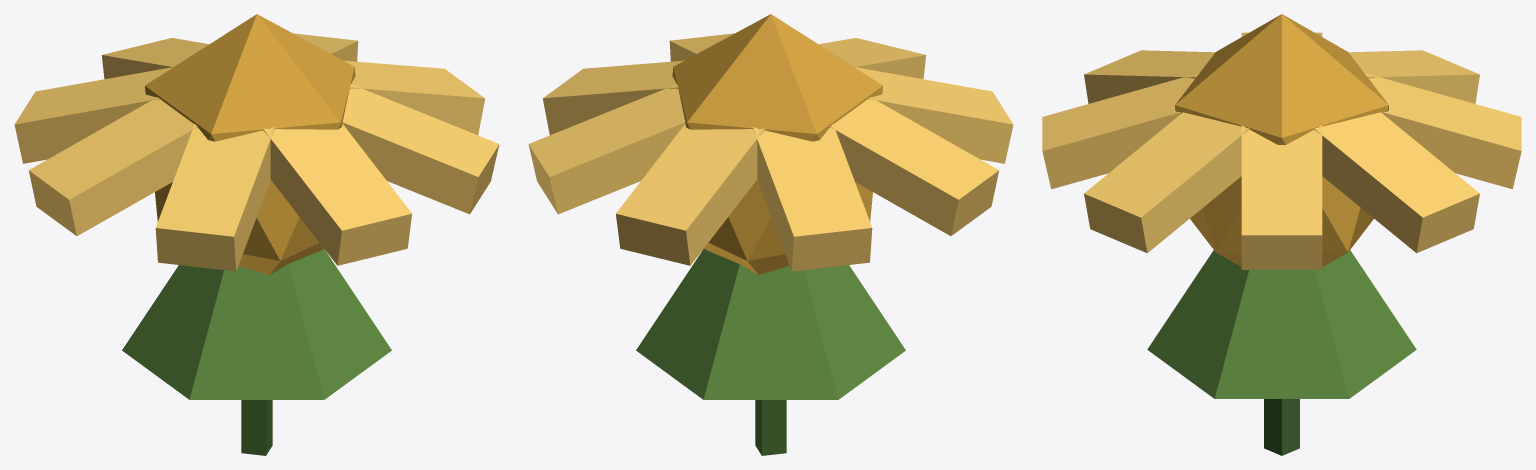
The model's file is Dandylion.fbx.
3 renders of one model, left to right at view 1: azimuth 30°, elevation 25°; view 2: azimuth 150°, elevation 25°; view 3: azimuth 270°, elevation 25°, orthographic.
Parts seen in each view (by area): view 1: Dandylion; view 2: Dandylion; view 3: Dandylion.
Part boxes in pixels (bbox=[...]): Dandylion: bbox=[14, 14, 499, 455]; Dandylion: bbox=[528, 14, 1013, 455]; Dandylion: bbox=[1042, 14, 1521, 455].
Bounding box in the file's own units: 1 × 1 × 1.
